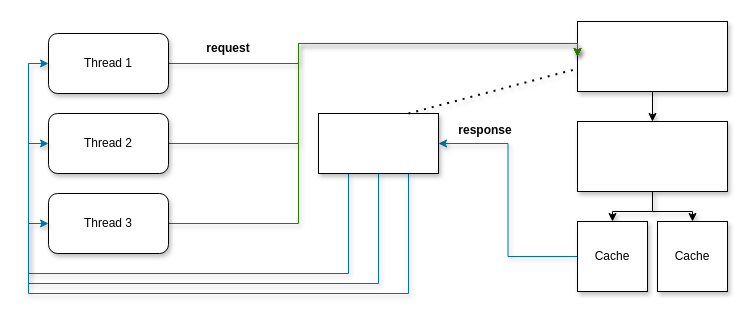
Image size: 751x326. Some labels were removed from this diagram. Here are the shapes that lost their labels. From the top down, the centre of each, then its label:
point (653, 57): Vault
point (379, 144): Ticket
point (653, 157): CacheCollector
